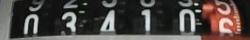digits: (133, 1, 162, 35), (178, 8, 196, 31), (98, 9, 114, 30), (22, 13, 38, 34), (61, 11, 76, 31), (214, 0, 230, 14)
